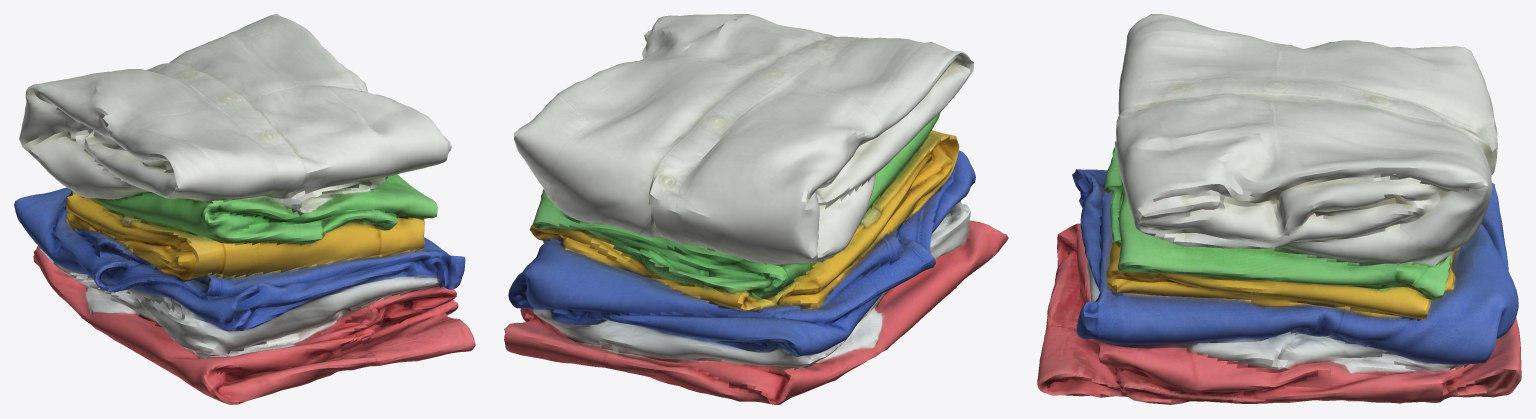
The picture shows the model from 3 angles, left to right: view 1: azimuth 30°, elevation 25°; view 2: azimuth 150°, elevation 25°; view 3: azimuth 270°, elevation 25°; orthographic projection. The views are drawn at different scales.
Parts seen in each view (by area): view 1: AM159_024_01; view 2: AM159_024_01; view 3: AM159_024_01.
Boxes of the visible parts, x1,y1,x2,y2 form: AM159_024_01: [14, 14, 475, 404]; AM159_024_01: [504, 14, 1008, 404]; AM159_024_01: [1037, 14, 1521, 404].
Size of the model in its own units: 24.49 by 17.1 by 29.97.
1 material, 1 textured.
